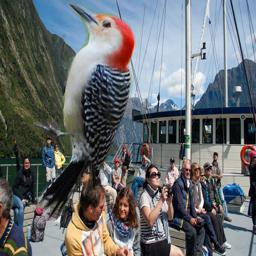Woodpecker: (33, 1, 136, 221)
